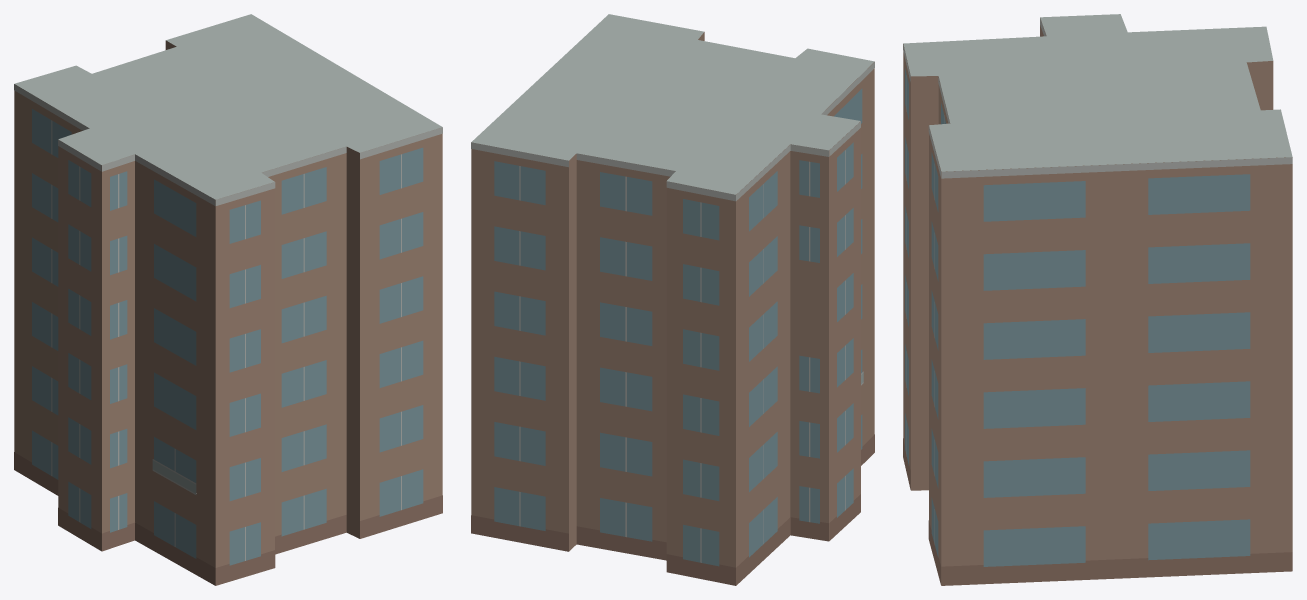
File: survey-upis-33013622.glb
3 views of the same model, side by side, from view 1: azimuth 30°, elevation 25°; view 2: azimuth 150°, elevation 25°; view 3: azimuth 270°, elevation 25° (orthographic). The views are drawn at different scales.
Visible parts, largest first — view 1: survey-upis-33013622.tmp; view 2: survey-upis-33013622.tmp; view 3: survey-upis-33013622.tmp.
Part boxes in pixels (x1=…): survey-upis-33013622.tmp: x1=14, y1=14, x2=442, y2=585; survey-upis-33013622.tmp: x1=471, y1=14, x2=874, y2=585; survey-upis-33013622.tmp: x1=903, y1=14, x2=1292, y2=585.
Bounding box in the file's own units: 11.84 × 14.5 × 12.36.
